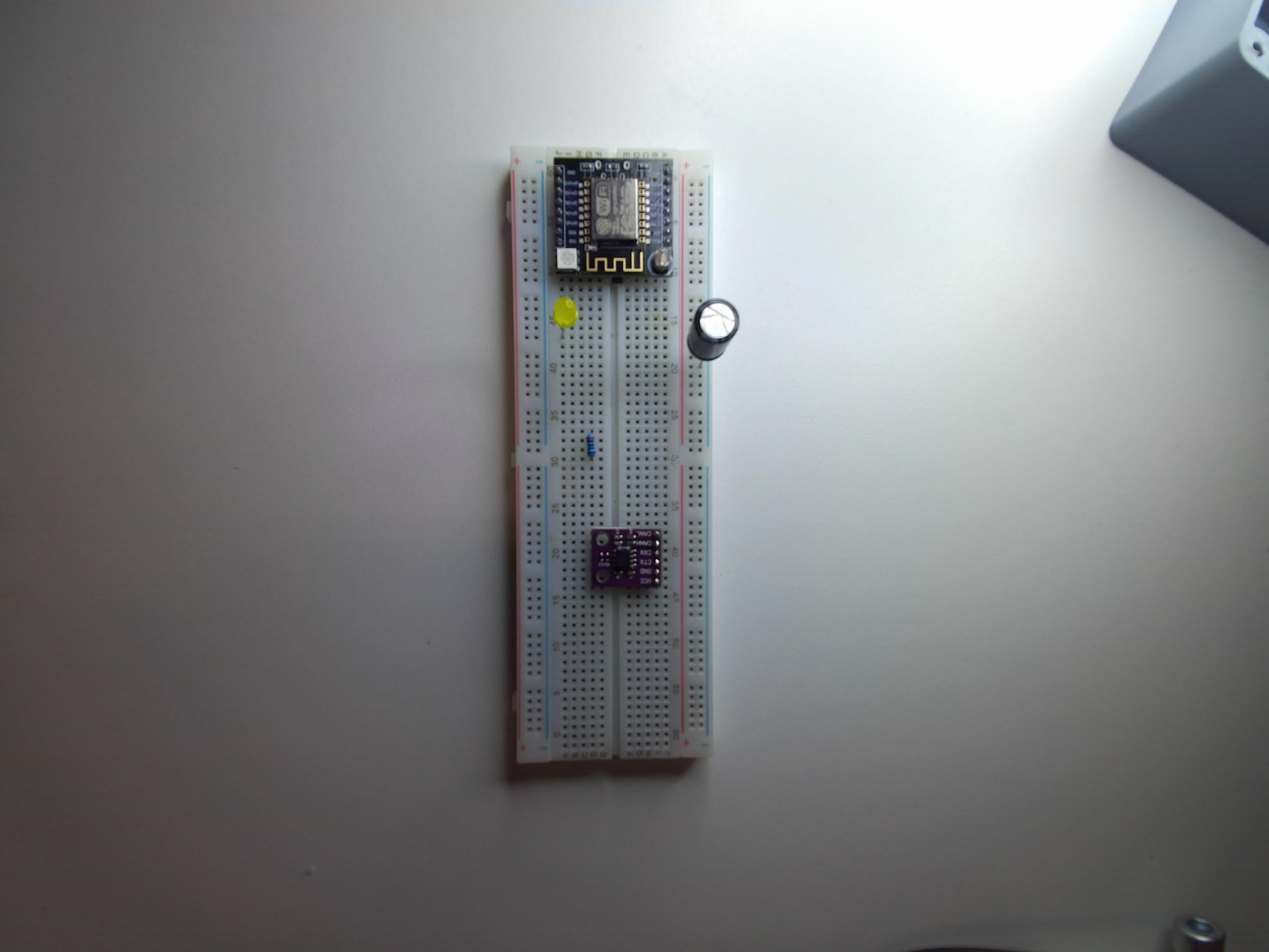base: (497, 142, 727, 790)
capacitor: (685, 298, 741, 363)
esp: (551, 150, 675, 283)
purple-board: (589, 529, 666, 593)
resistor-small: (586, 431, 595, 463)
yellow-led: (544, 293, 581, 333)
